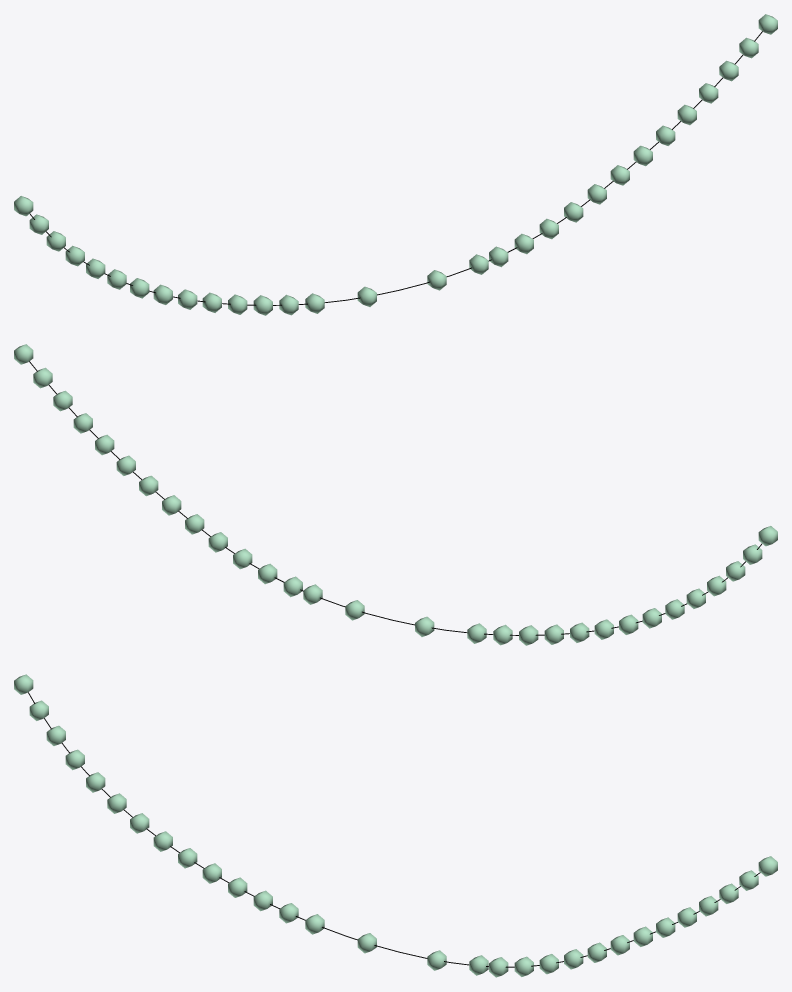
File: garland street Edit.fbx
3 views of the same model, one above another, from view 1: azimuth 30°, elevation 25°; view 2: azimuth 150°, elevation 25°; view 3: azimuth 330°, elevation 25° (orthographic).
Visible parts, largest first — view 1: garland street; view 2: garland street; view 3: garland street.
Part boxes in pixels (x1=…): garland street: x1=14, y1=14, x2=777, y2=315; garland street: x1=14, y1=344, x2=777, y2=645; garland street: x1=14, y1=674, x2=777, y2=977.
Bounding box in the file's own units: 815 × 197 × 20.
